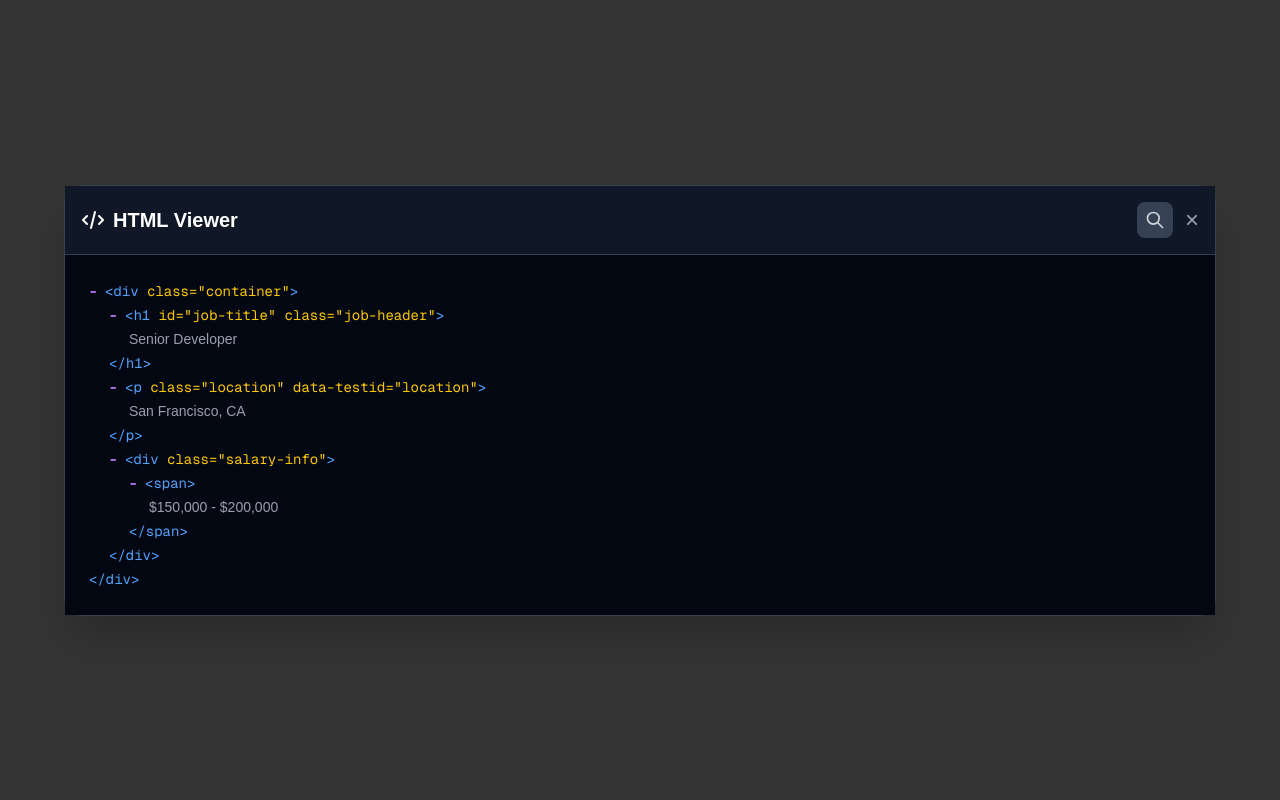
Test: HtmlViewer › search functionality › should toggle search panel with search button
This screenshot has width=1280, height=800.
Click the button named "search" at {"x": 1155, "y": 220}, box [1137,202,1173,238]
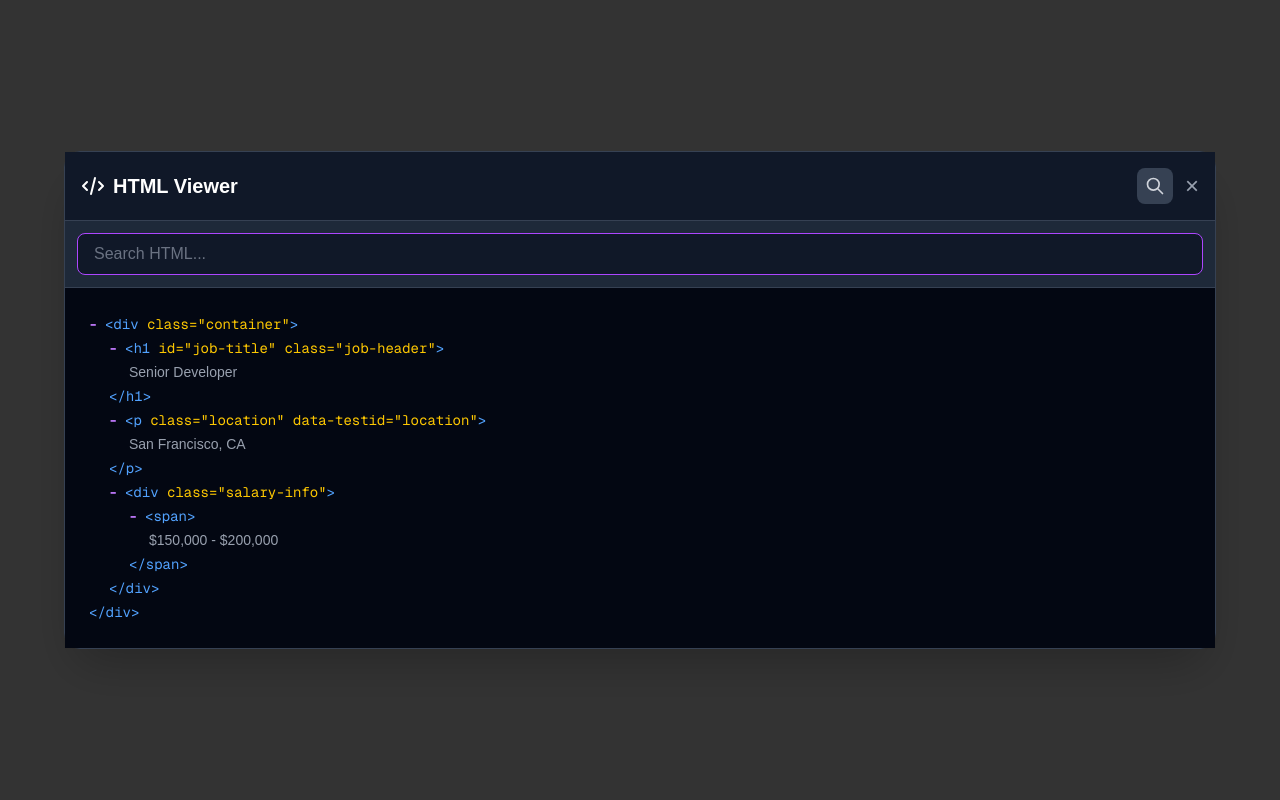
Expected: the field with placeholder "Search HTML..." is shown, [77,233,1203,275]
